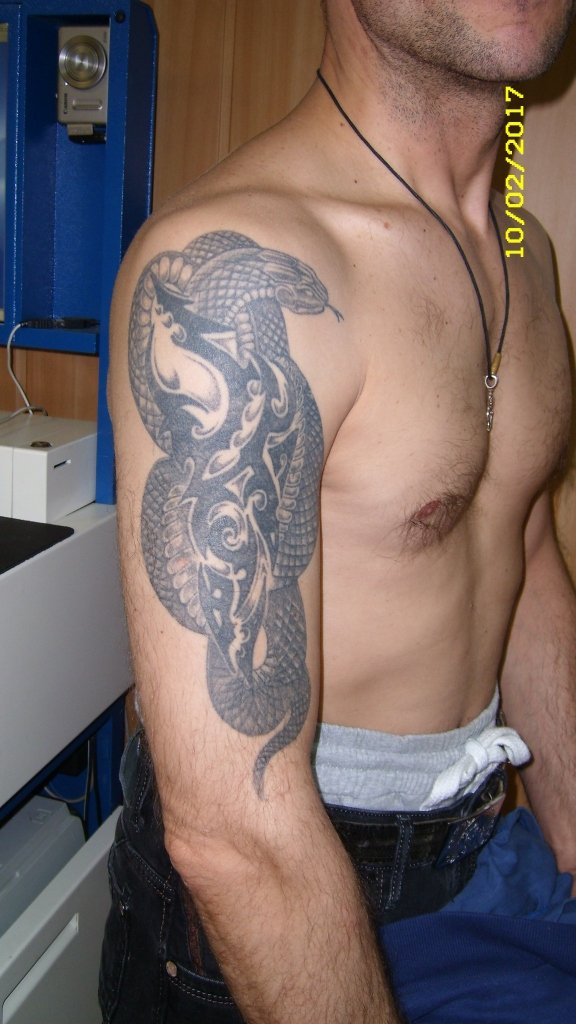tatu7_zmeya: (90, 242, 412, 564)
